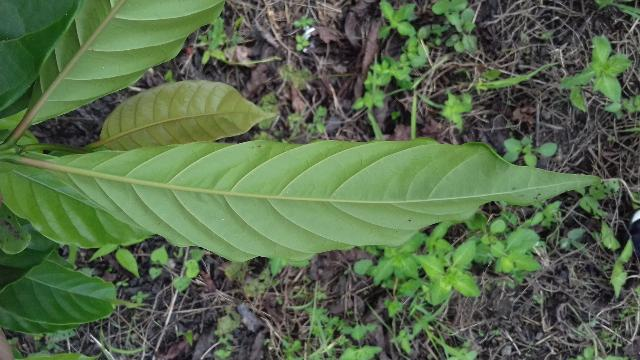healthy: (8, 142, 603, 262)
